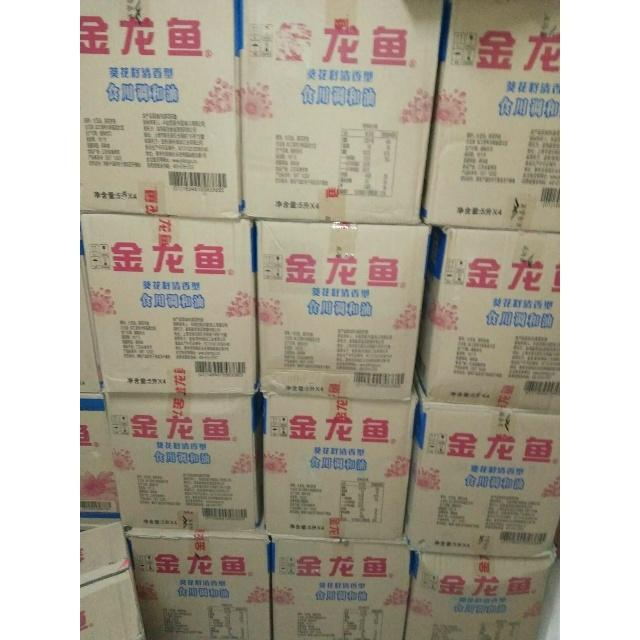box: (238, 0, 445, 226), (80, 0, 241, 218), (79, 214, 259, 394), (421, 0, 560, 233), (255, 221, 431, 400), (415, 226, 559, 413), (403, 387, 559, 558), (264, 393, 418, 540), (104, 394, 262, 532), (125, 528, 271, 640), (270, 534, 412, 640), (404, 546, 556, 640), (79, 520, 146, 640), (80, 393, 119, 526), (79, 227, 102, 393)
